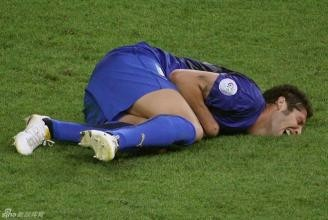falling: (7, 28, 320, 165)
